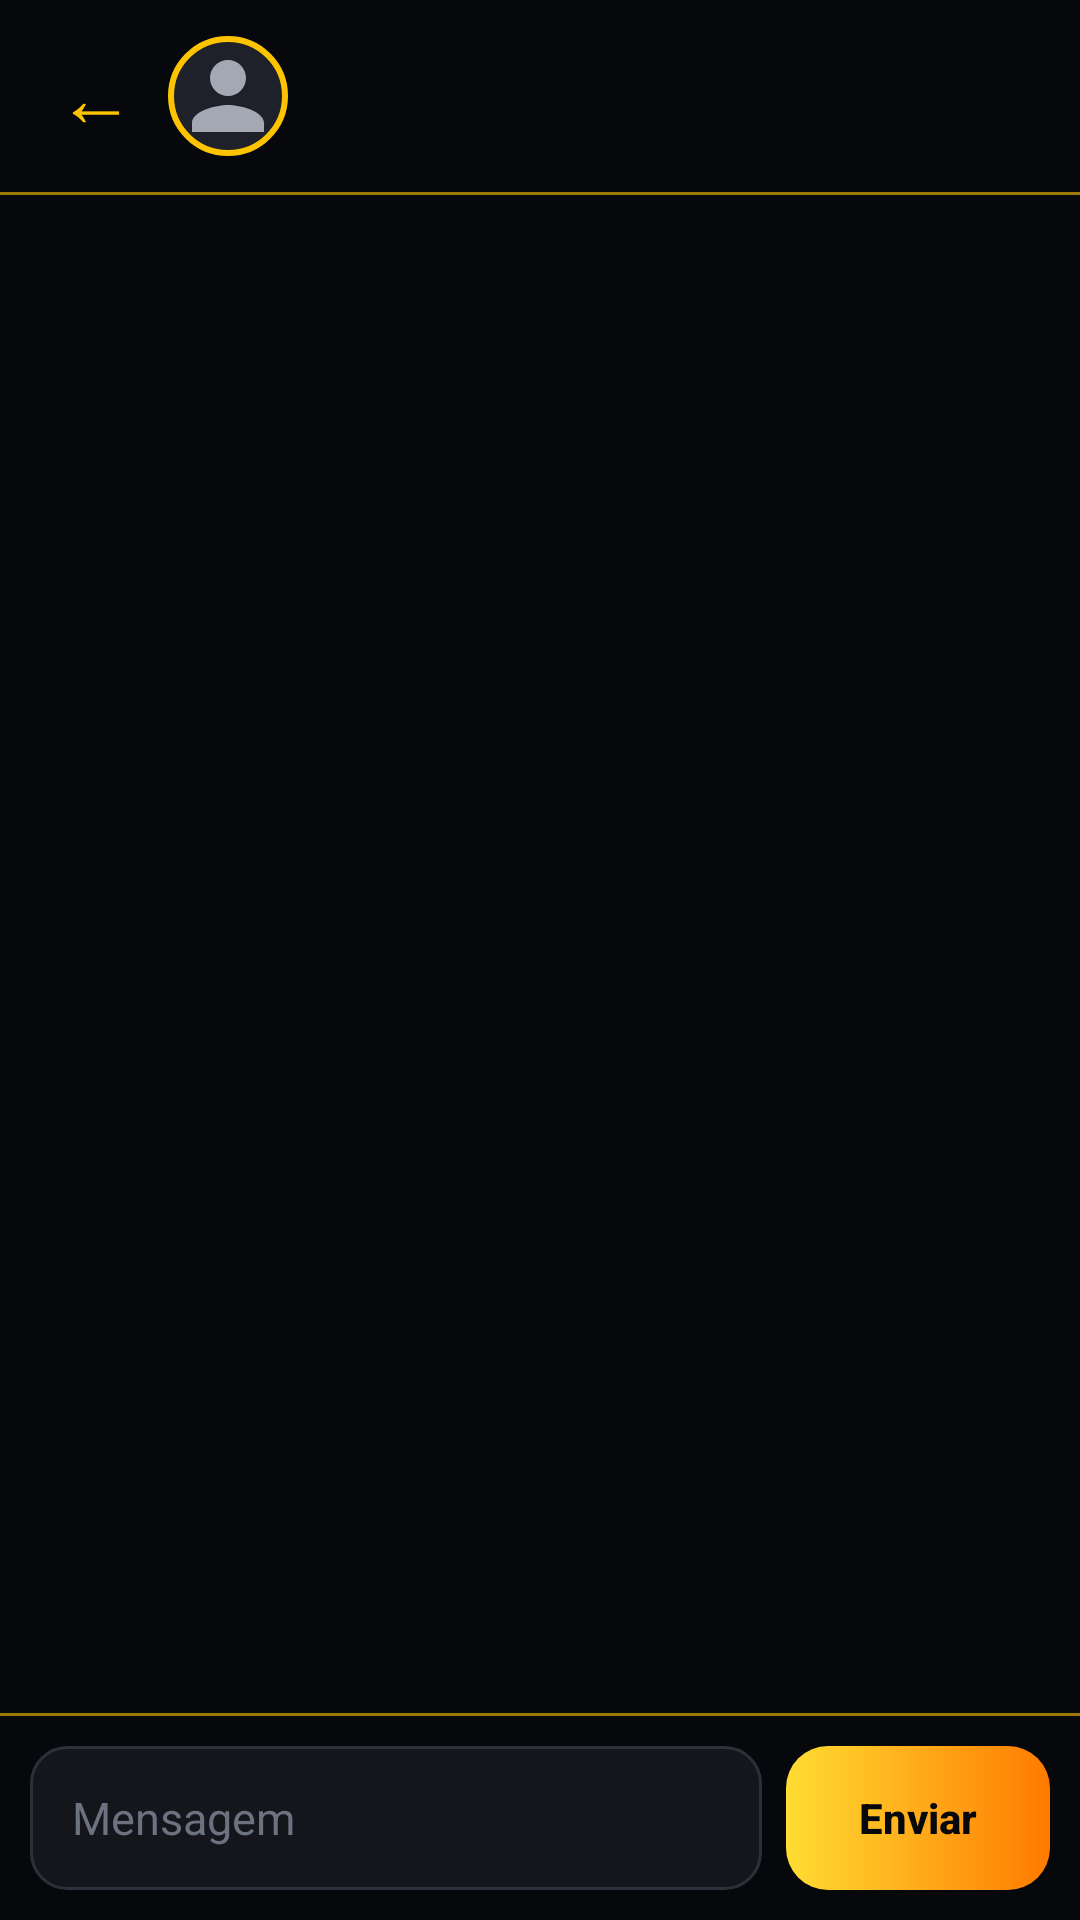

Locate icon controls on the screen. Image size 1080 x 1920, boxes as (x1, y1, x2, y2).
pessoa: (168, 36, 288, 156)
